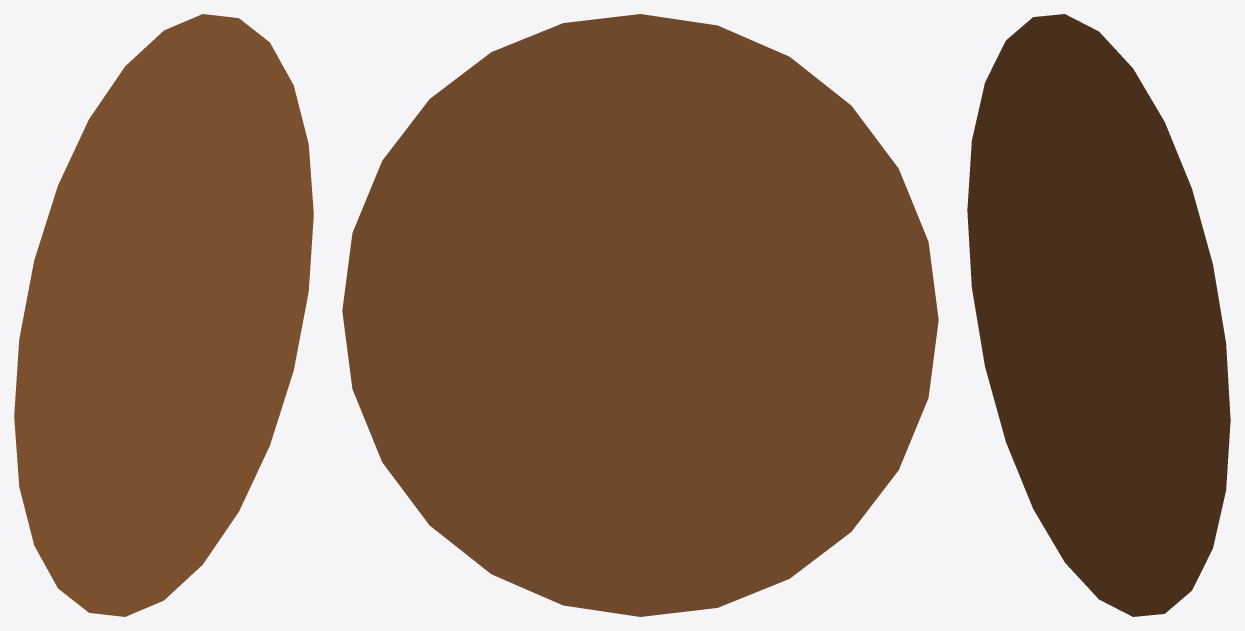
Rendered from original-54.obj.
3 renders of one model, left to right at view 1: azimuth 30°, elevation 25°; view 2: azimuth 150°, elevation 25°; view 3: azimuth 270°, elevation 25°, orthographic. The views are drawn at different scales.
Parts seen in each view (by area): view 1: mesh81/mesh81-geometry/material_0/component_0#mesh81-geometry; view 2: mesh81/mesh81-geometry/material_0/component_0#mesh81-geometry; view 3: mesh81/mesh81-geometry/material_0/component_0#mesh81-geometry.
Boxes of the visible parts, <box> form: mesh81/mesh81-geometry/material_0/component_0#mesh81-geometry: <box>14,14,313,616</box>; mesh81/mesh81-geometry/material_0/component_0#mesh81-geometry: <box>342,14,938,616</box>; mesh81/mesh81-geometry/material_0/component_0#mesh81-geometry: <box>967,14,1230,616</box>.
Bounding box in the file's own units: 0.0245 × 0.0309 × 0.013.
